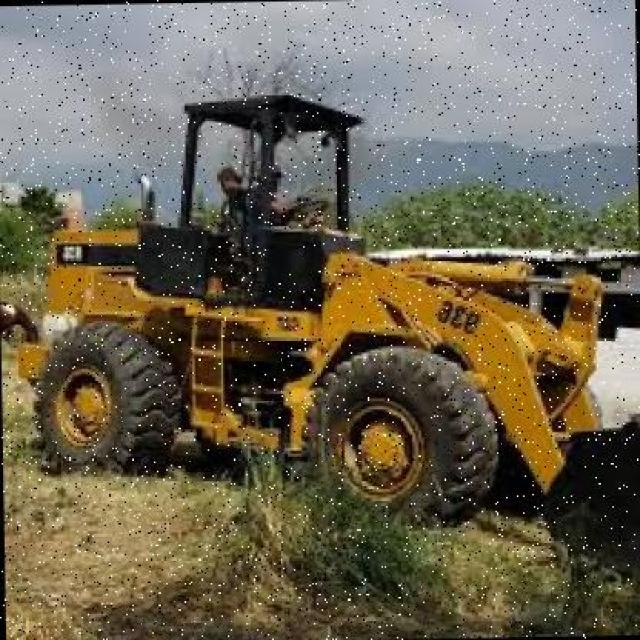buldozerpayloadergrader: (18, 74, 610, 526)
